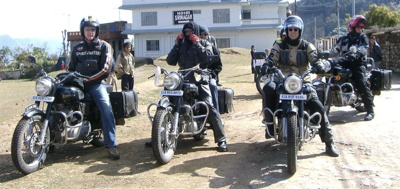helmet: (77, 13, 101, 43), (280, 15, 304, 44), (346, 13, 369, 37)
